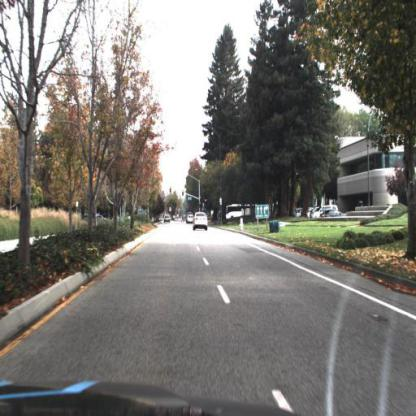car: (357, 194, 382, 217), (315, 205, 349, 221), (192, 210, 211, 233)
